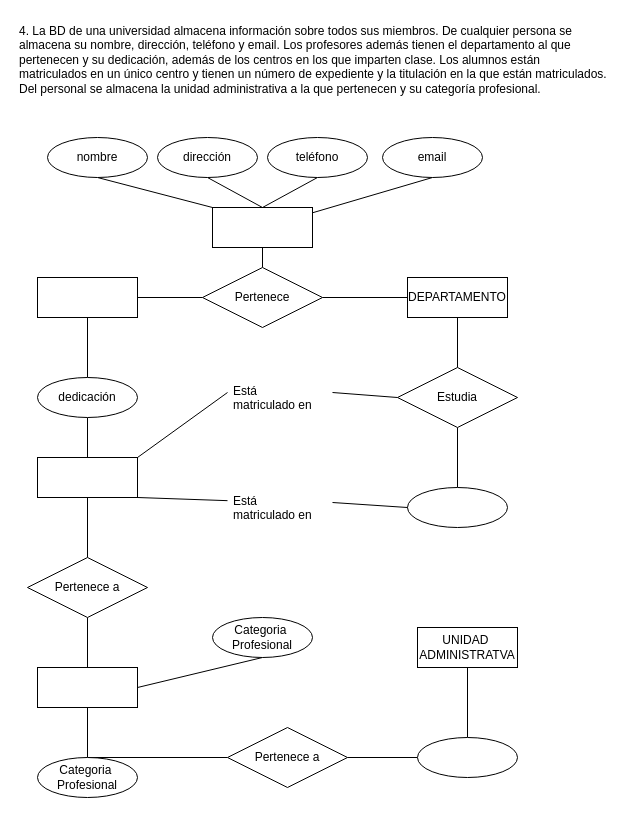
Image size: 624x815. Some labels were removed from this diagram. Each missing label, with the centre of its shape:
"ALUMNO" belongs at point (87, 477).
"CENTRO" belongs at point (457, 507).
"PERSONA" belongs at point (262, 227).
"PERSONAL" belongs at point (87, 687).
"PROFESOR" belongs at point (87, 297).
"UNIDAD ADMINISTRATIVA" belongs at point (467, 757).
